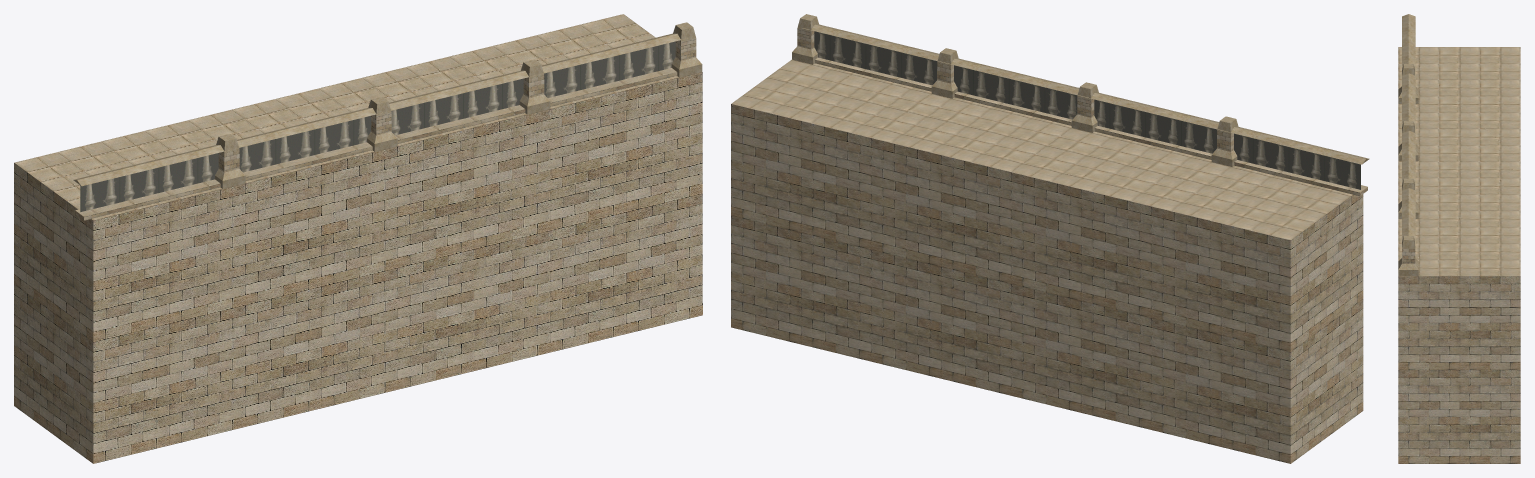
File: thm_nboo_thed_imprv_seawall_straight_s01_2seg_l1.fbx
3 renders of one model, left to right at view 1: azimuth 30°, elevation 25°; view 2: azimuth 150°, elevation 25°; view 3: azimuth 270°, elevation 25°, orthographic. The views are drawn at different scales.
Visible parts, largest first — view 1: mesh_node; view 2: mesh_node; view 3: mesh_node.
Part boxes in pixels (x1,y1,x2,y2): mesh_node: [14, 14, 702, 463]; mesh_node: [731, 14, 1369, 463]; mesh_node: [1398, 14, 1520, 463].
Bounding box in the file's own units: 16.24 × 7.2 × 3.6.
